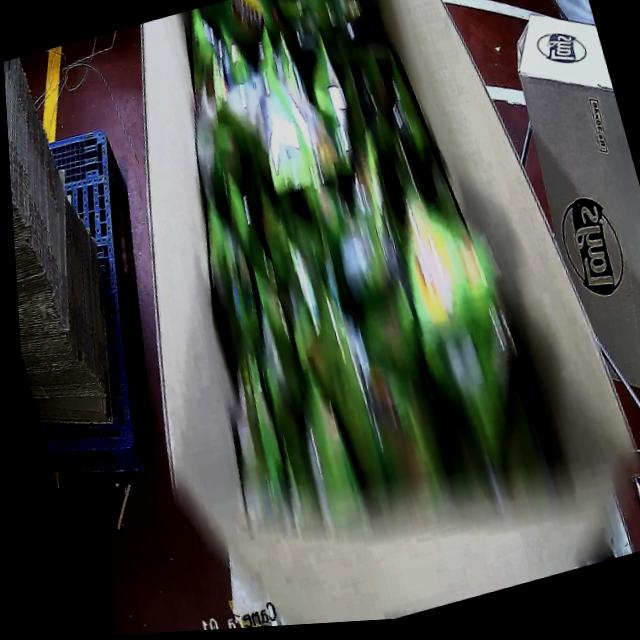YOGURT_HERB: (156, 0, 559, 545)
